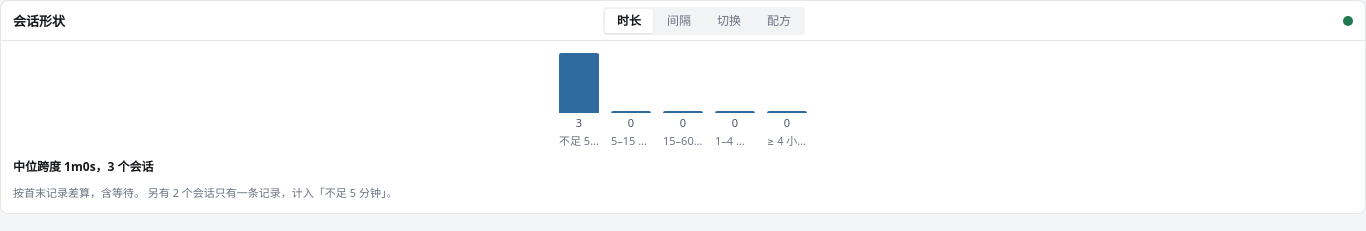
Test: SessionShapePanel（会话形状卡） › 切换档：三桶与换过模型的占比
The width and height of the screenshot is (1366, 231).
Click the tab "切换".
click(729, 20)  # box 705,8 -> 753,32
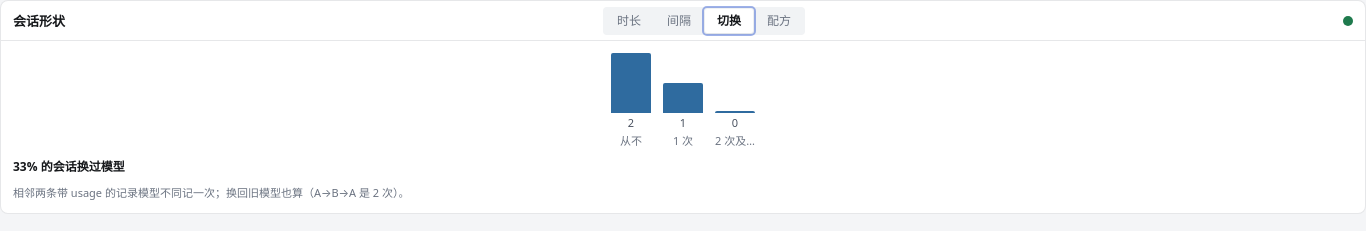
Expected: the text "33% 的会话换过模型" is shown, 13,158 -> 125,175
Expected: the text "相邻两条带 usage 的记录模型不同记一次；换回旧模型也算（A→B→A 是 2 次）。" is shown, 13,185 -> 410,200
